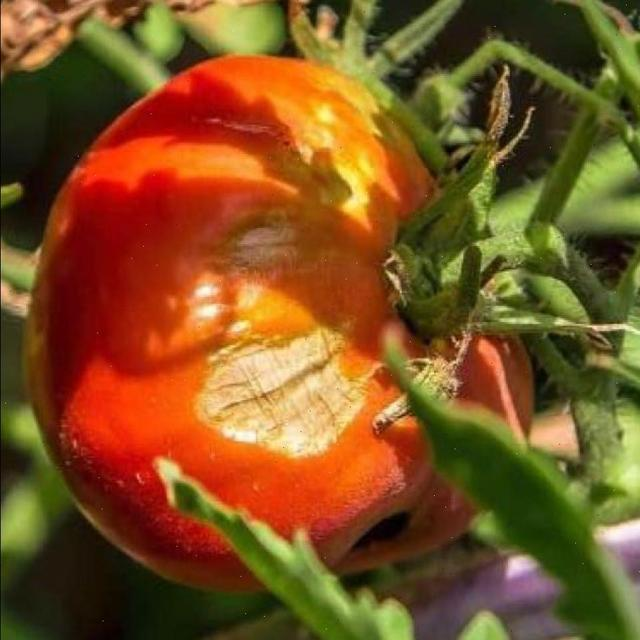Sunscald Fruit: (63, 51, 227, 270)
